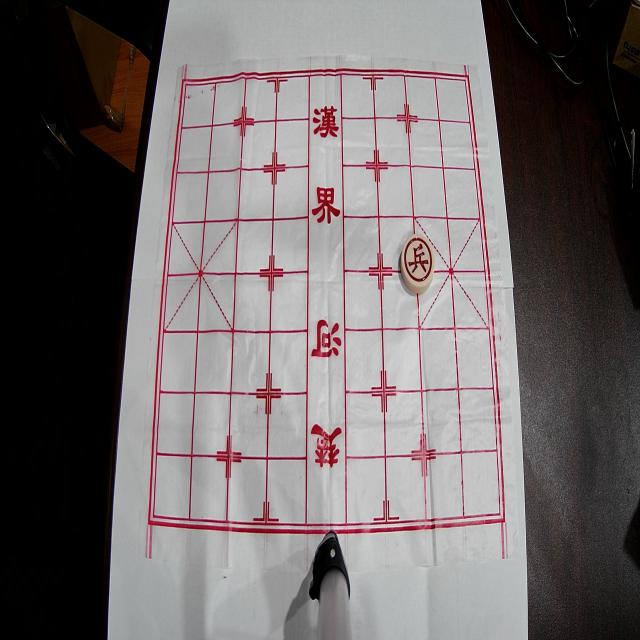red-soldier: (400, 234, 434, 294)
